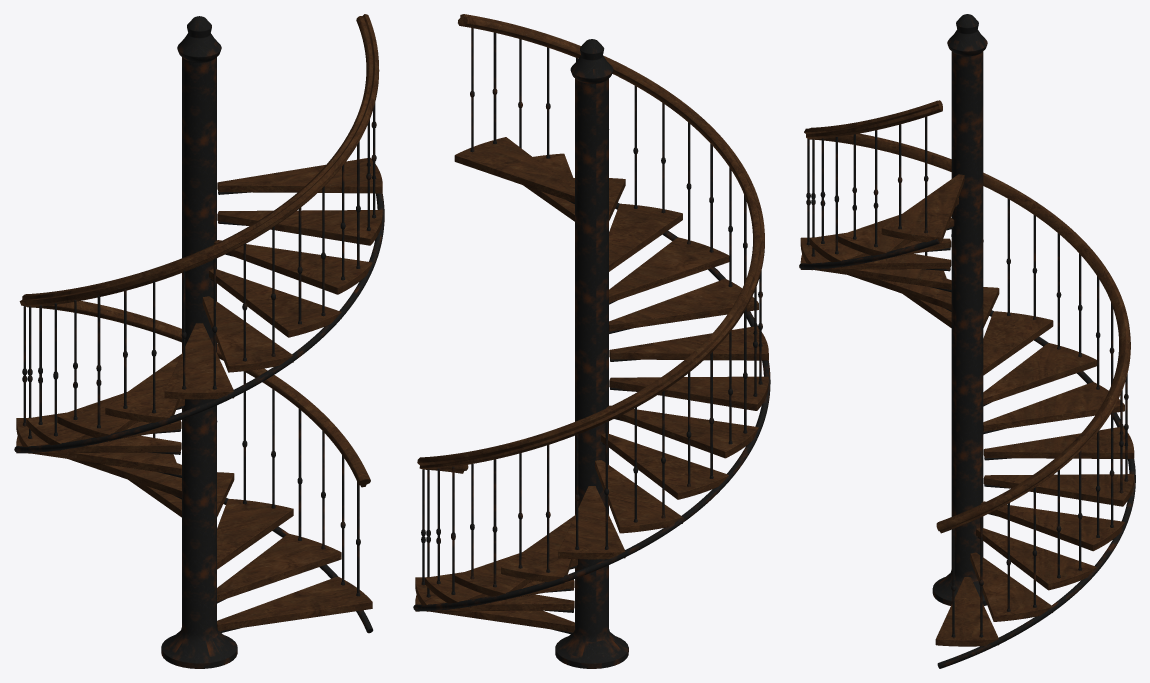
File: Stairs_Spiral.gltf
The picture shows the model from 3 angles, left to right: view 1: azimuth 30°, elevation 25°; view 2: azimuth 150°, elevation 25°; view 3: azimuth 270°, elevation 25°; orthographic projection. The views are drawn at different scales.
Parts seen in each view (by area): view 1: Stairs_Spiral_Body; view 2: Stairs_Spiral_Body; view 3: Stairs_Spiral_Body.
Boxes of the visible parts, <box> form: Stairs_Spiral_Body: <box>14,14,384,668</box>; Stairs_Spiral_Body: <box>413,14,770,668</box>; Stairs_Spiral_Body: <box>799,14,1135,668</box>.
Size of what is drawn, in the model's own units: 2.32 by 4.46 by 2.32.
Materials: 2 (2 with a texture image).
